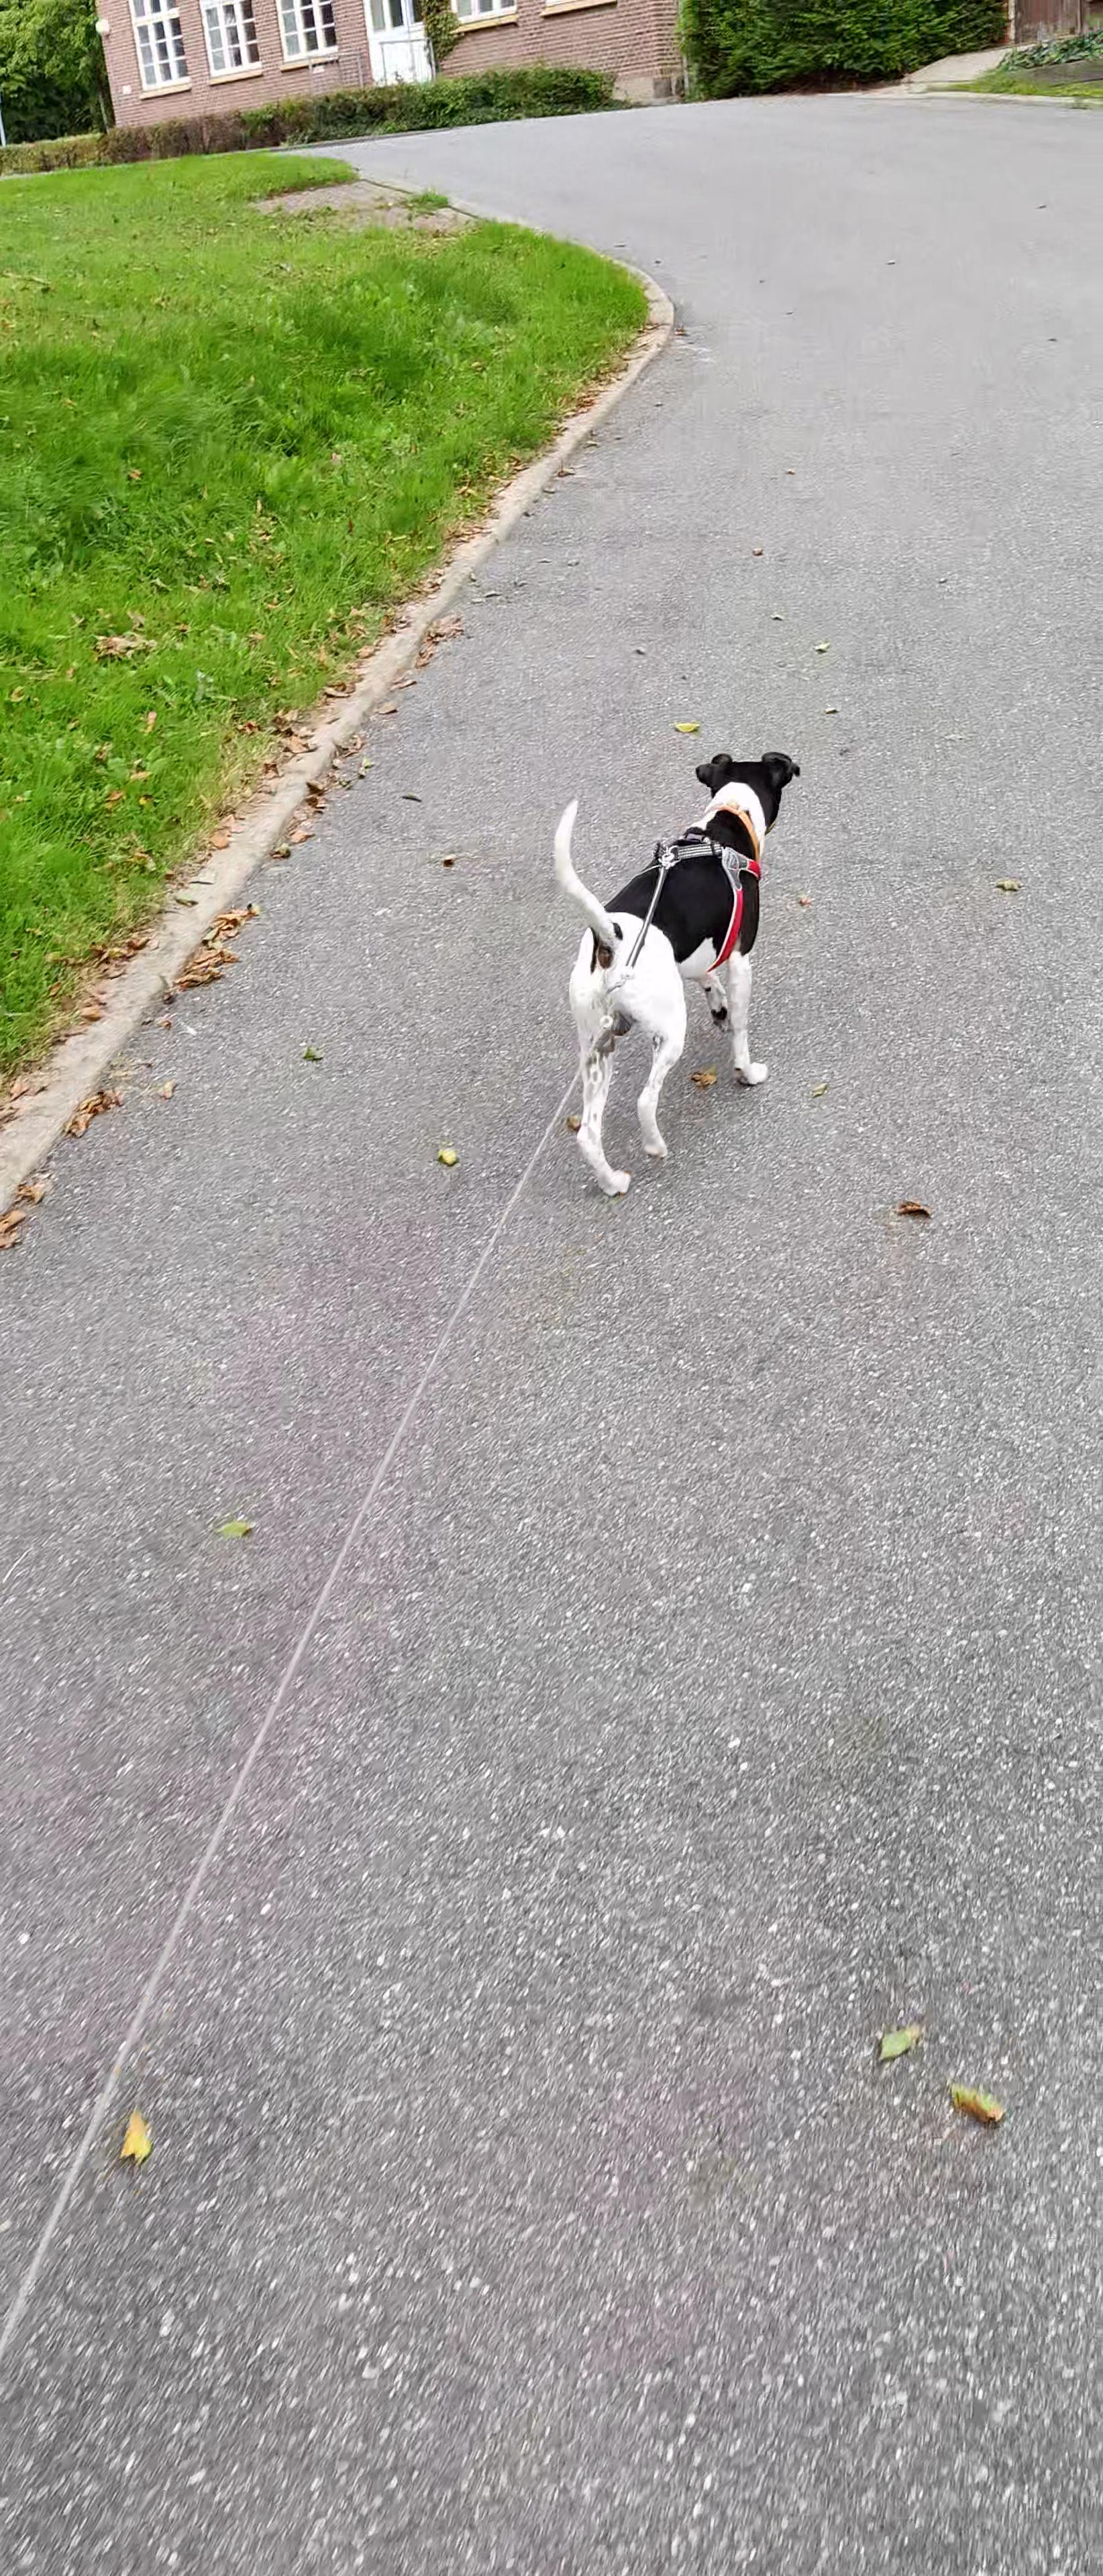Dog: (513, 746, 817, 1201)
